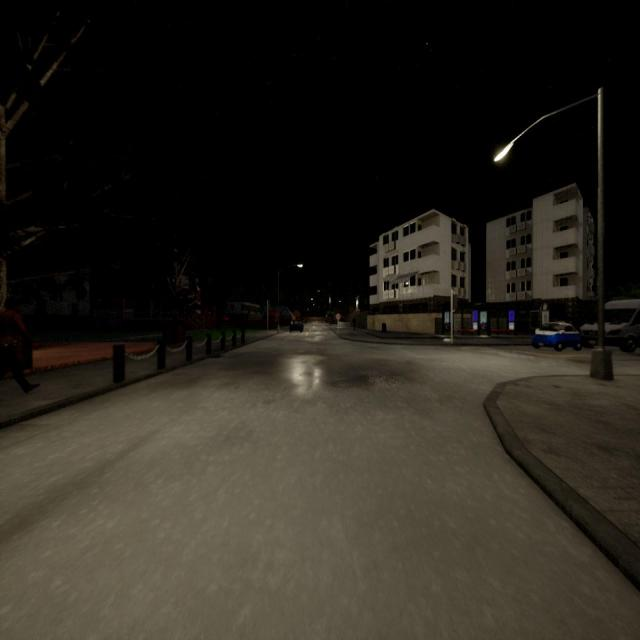Pedestrian: (0, 289, 41, 396), (352, 315, 356, 332)
Traffic_Signs: (336, 314, 341, 319)
Vehicle: (581, 300, 640, 354), (532, 322, 581, 351), (290, 320, 303, 332)
traffic_light: (453, 294, 458, 309)
